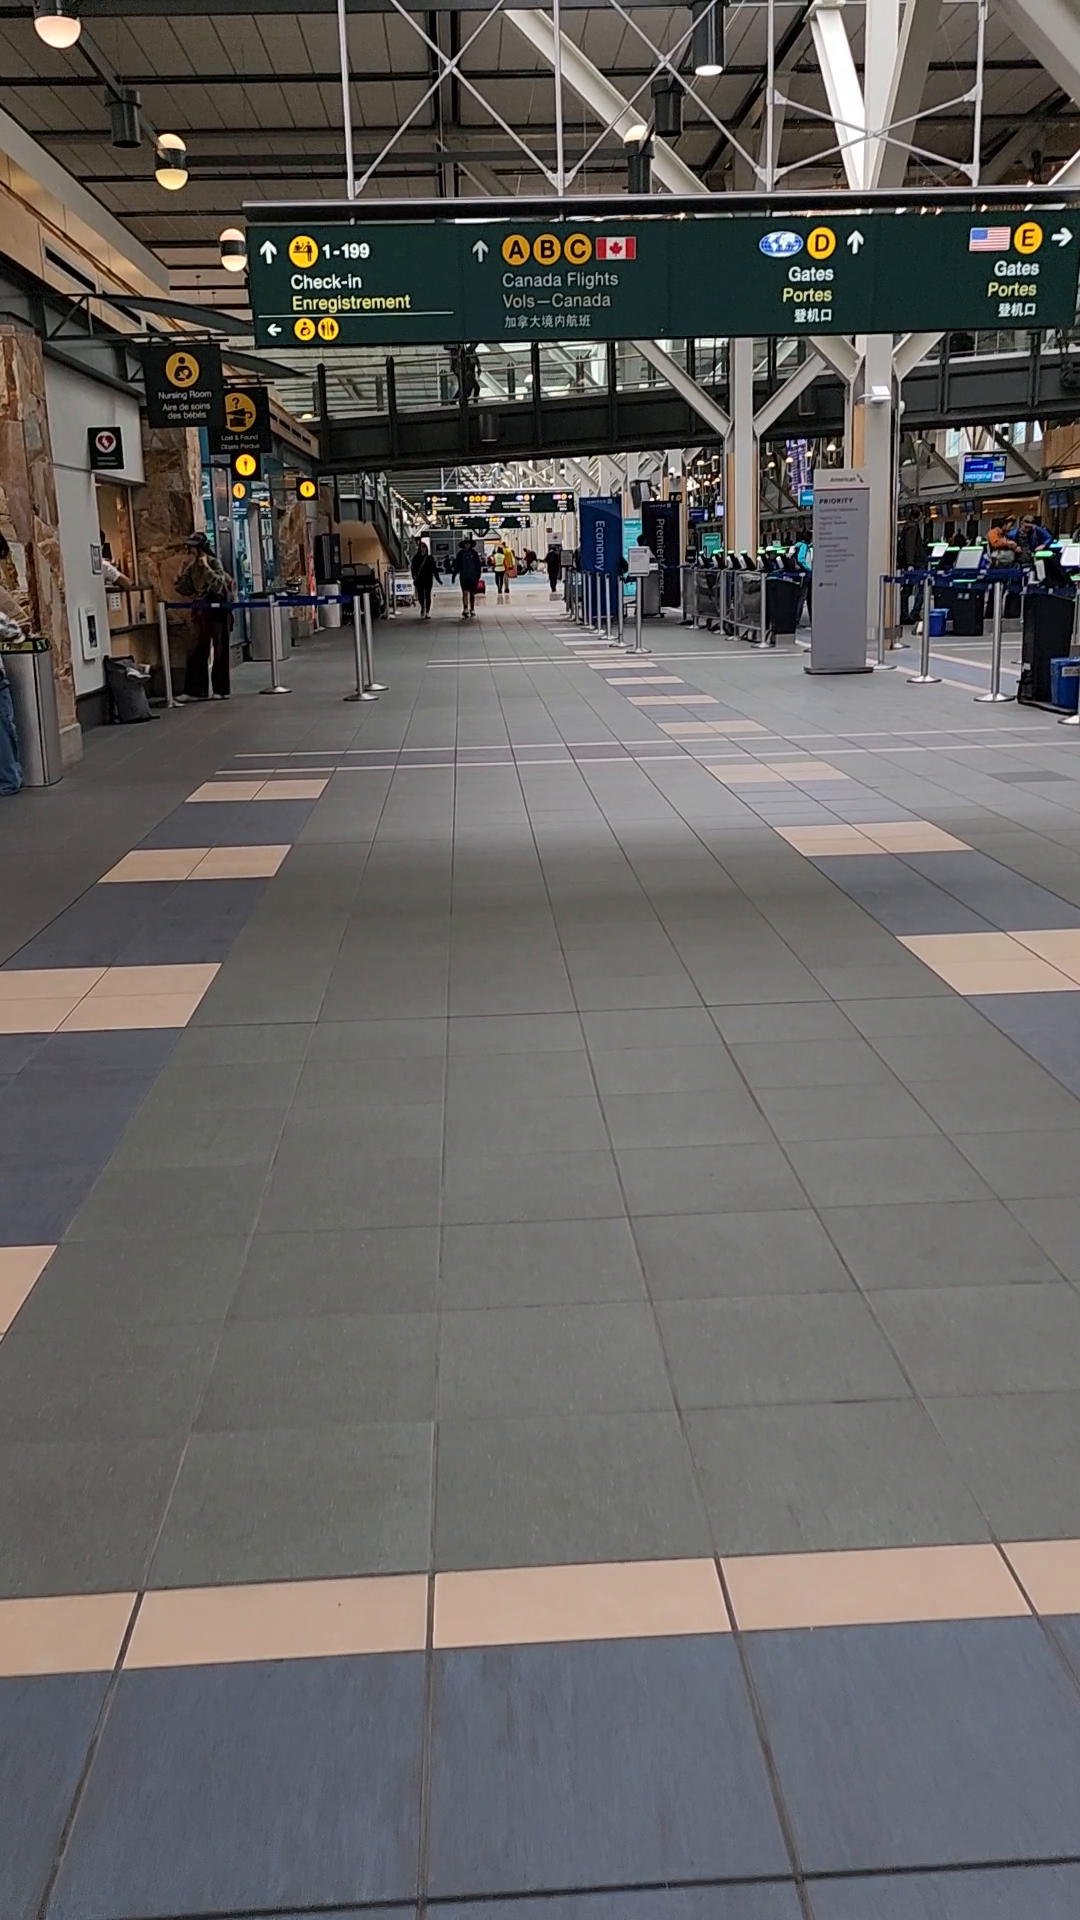Defect: (495, 224, 647, 268)
Stain: (313, 1567, 547, 1907), (15, 1663, 142, 1920), (37, 1004, 185, 1150)
